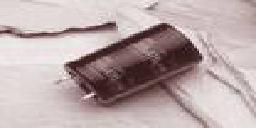Electrolytic Capacitor: (50, 22, 211, 103)
